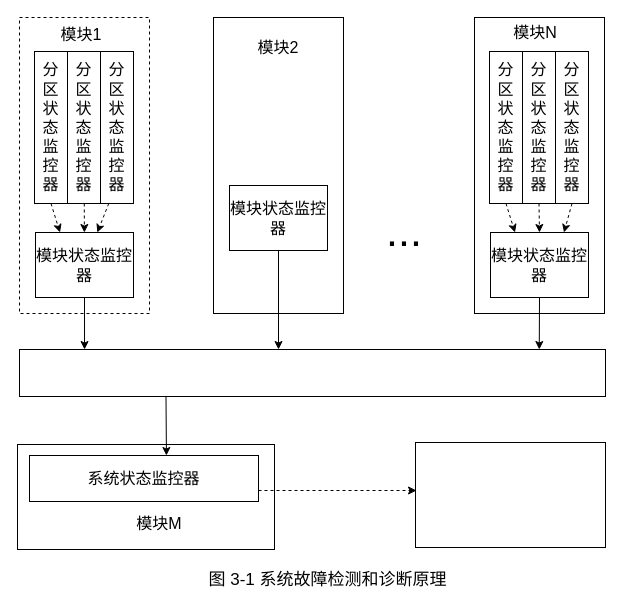
This 623x613 diagram has some shape labels left out. The shapes that lost their labels are listed below. From the top down, each one's centre as x and y in pixels, then its label:
At (x=312, y=372): "网络交换模块".
At (x=510, y=495): "系统监控设备".
